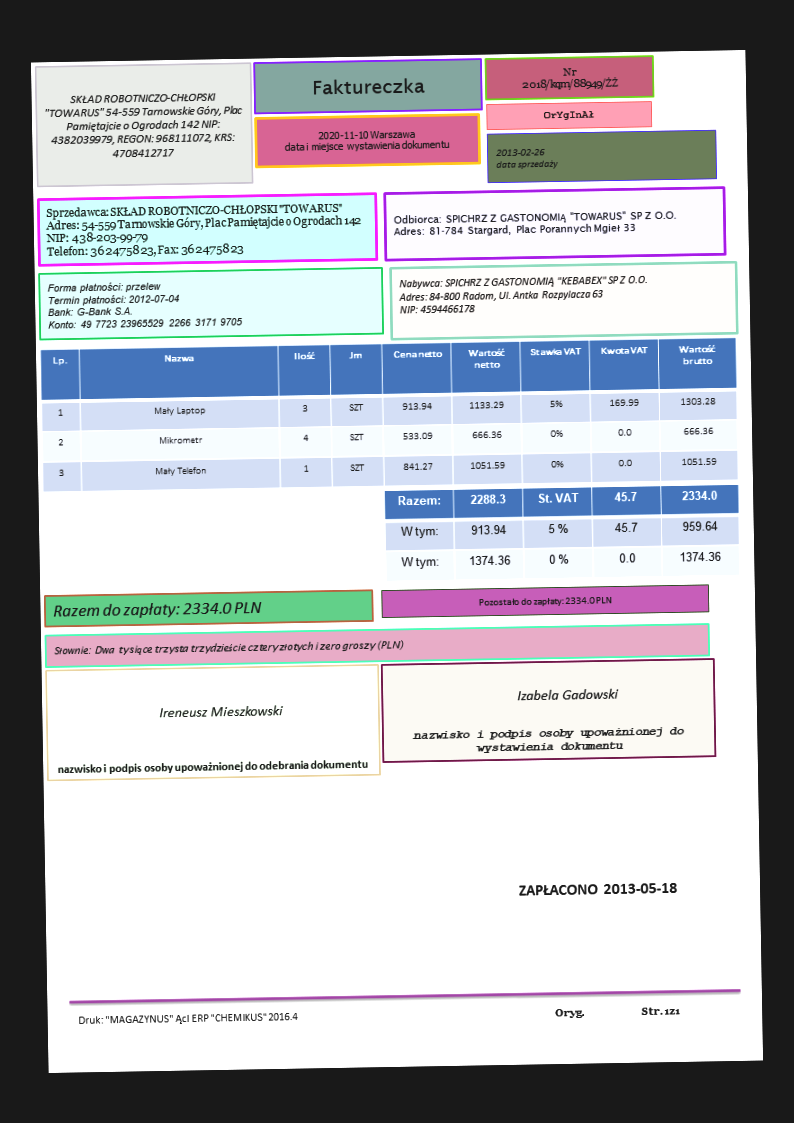Table: (39, 336, 740, 493), (382, 483, 742, 583)
TextBox: (43, 199, 366, 259), (42, 88, 248, 164), (397, 271, 652, 317), (45, 277, 245, 332), (389, 206, 679, 240), (410, 723, 687, 756), (53, 637, 405, 659), (55, 754, 370, 778), (50, 596, 264, 622), (76, 1007, 299, 1030), (281, 127, 453, 154), (513, 877, 682, 899), (519, 63, 620, 94), (156, 700, 285, 723), (310, 75, 426, 98), (514, 683, 622, 706), (475, 591, 617, 608), (552, 1003, 684, 1021), (493, 145, 560, 174), (540, 107, 595, 124)
